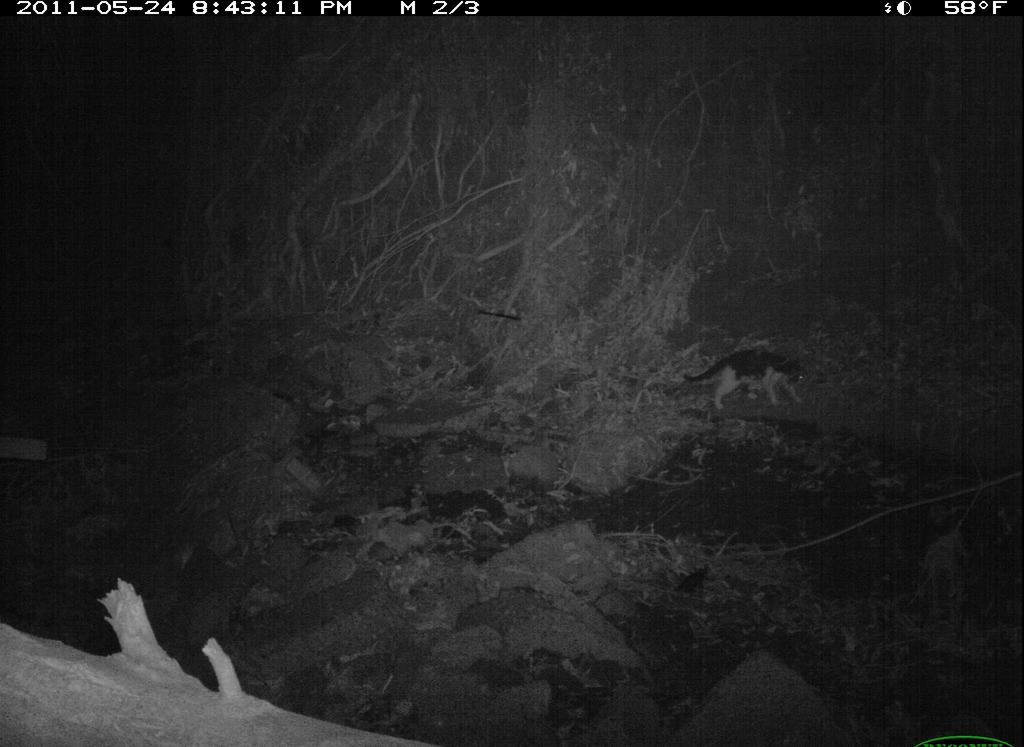cat: (681, 340, 816, 417)
